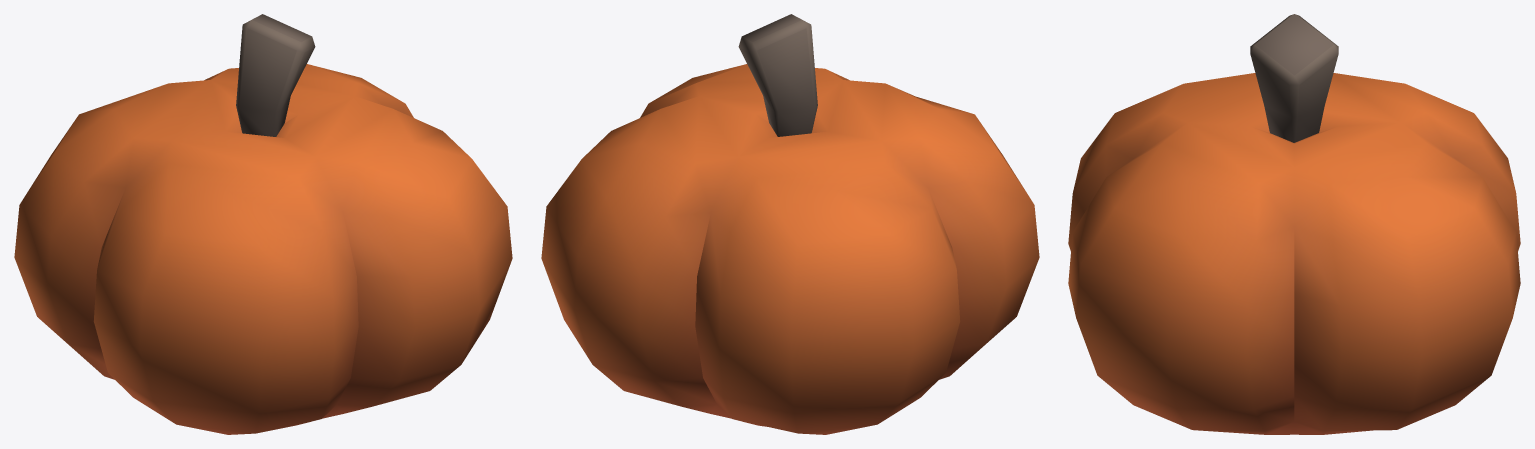
Rendered from pumpkin_orange_small.glb.
The picture shows the model from 3 angles, left to right: view 1: azimuth 30°, elevation 25°; view 2: azimuth 150°, elevation 25°; view 3: azimuth 270°, elevation 25°; orthographic projection.
Parts seen in each view (by area): view 1: pumpkin_orange_small; view 2: pumpkin_orange_small; view 3: pumpkin_orange_small.
Boxes of the visible parts, box(x1,y1,x2,y2) form: pumpkin_orange_small: box(14, 14, 512, 434); pumpkin_orange_small: box(541, 14, 1039, 434); pumpkin_orange_small: box(1068, 14, 1520, 434).
Size of the model in its own units: 0.6 by 0.55 by 0.6.
Materials: 1 (1 with a texture image).
